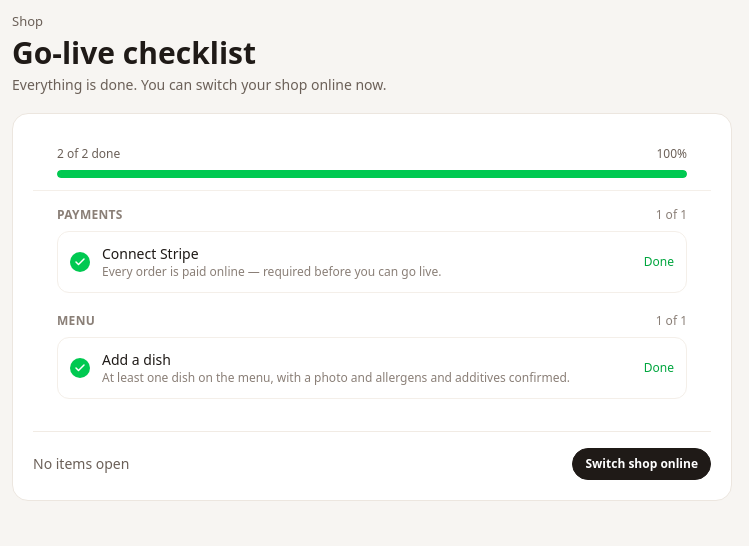
Test: GoLiveChecklistPage › stays on the page with an error when the switch fails
Click the button "Switch shop online" at (642,464), box [572,448,711,480]
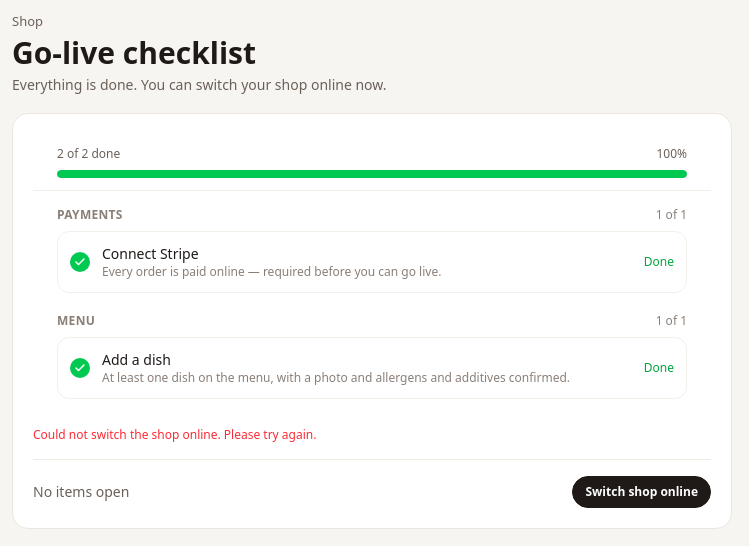
Expected: the message "Could not switch the shop online. Please try again." is shown, [33,426,316,443]
